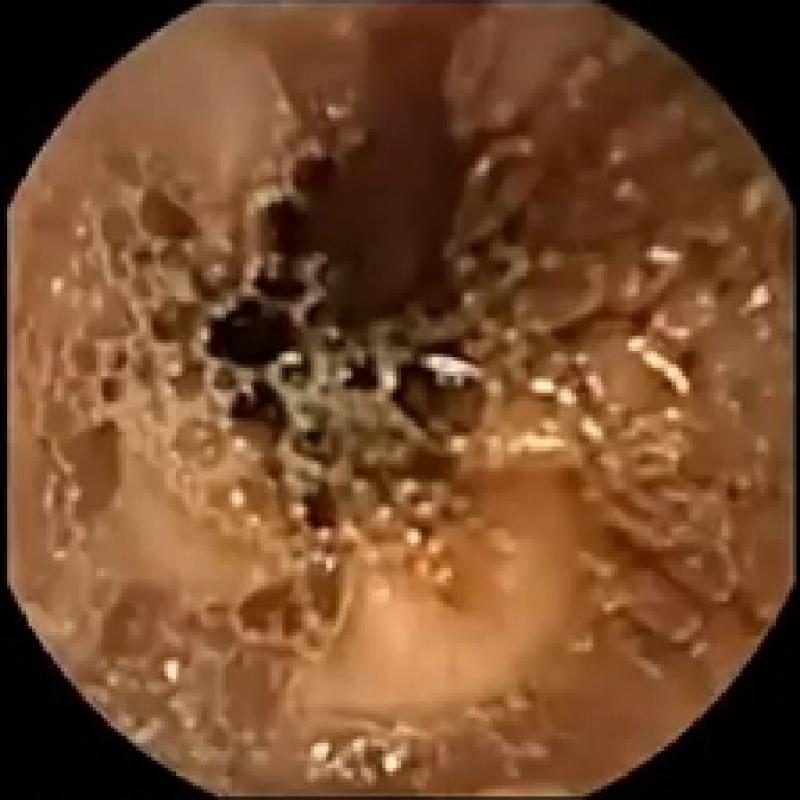bleeding: (218, 71, 482, 436)
